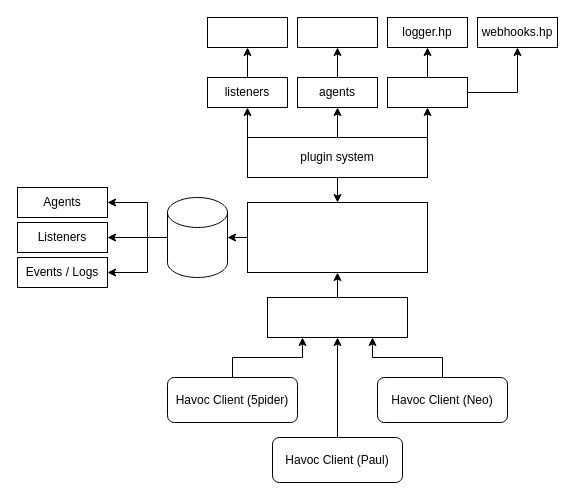
This 575x500 diagram has some shape labels left out. Here are the shapes that lost their labels. From the top down, the centre of each, then its label:
At point (247, 32): "http.hp".
At point (337, 32): "demon.hp".
At point (427, 92): "managers".
At point (197, 237): "Database".
At point (337, 237): "Havoc Core Server".
At point (337, 317): "REST API".
